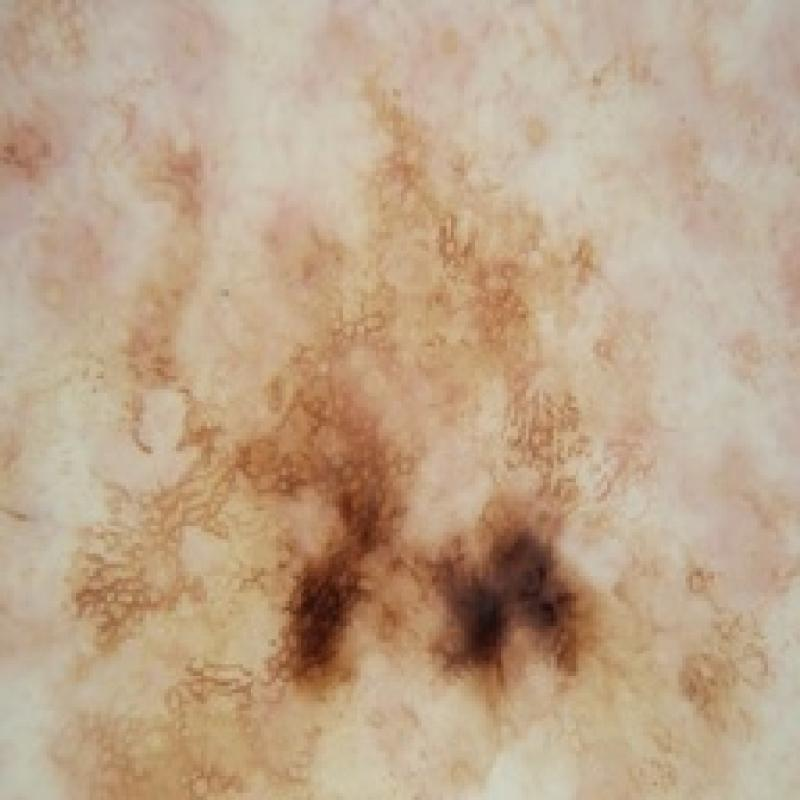malignant: (80, 83, 648, 743)
